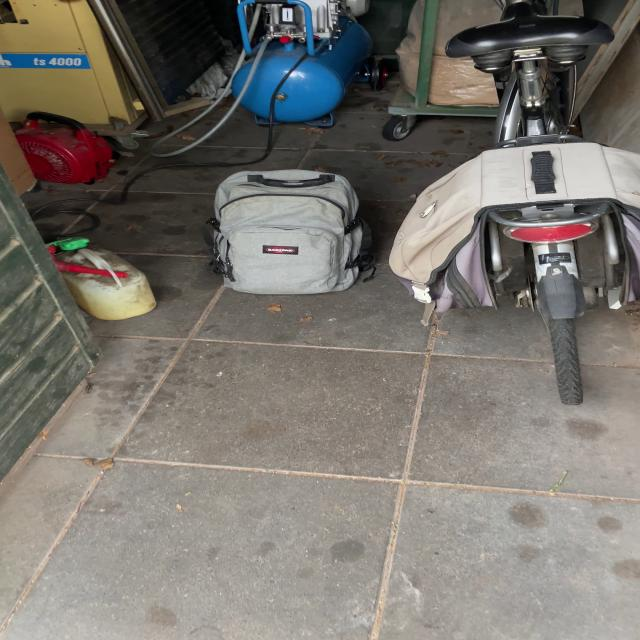backpack: (197, 163, 384, 300)
